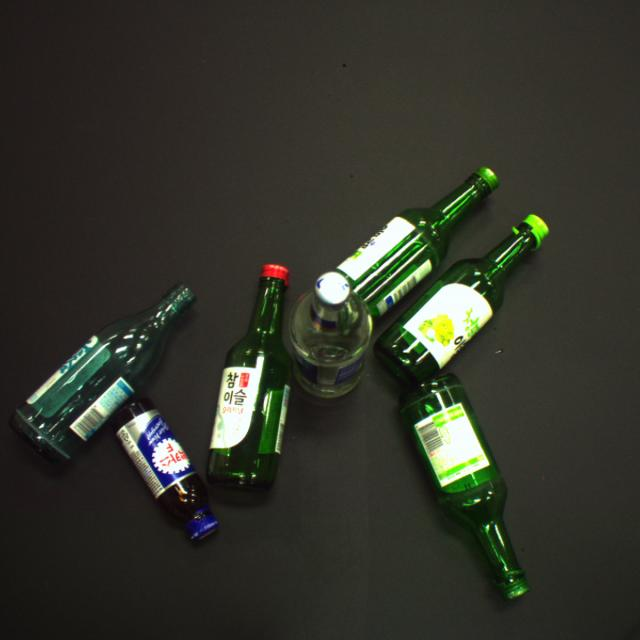soju-bottle: (13, 284, 194, 459), (375, 216, 547, 382), (402, 374, 528, 598), (337, 169, 498, 319), (207, 264, 291, 487)
